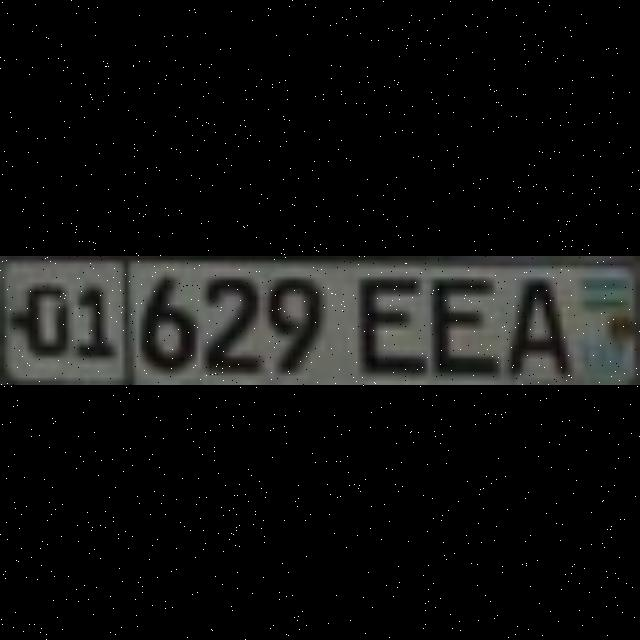0: (16, 278, 62, 350)
1: (68, 278, 112, 350)
2: (191, 266, 253, 368)
6: (129, 266, 185, 368)
9: (258, 272, 320, 368)
A: (499, 266, 566, 374)
E: (422, 266, 494, 368), (348, 266, 416, 368)
